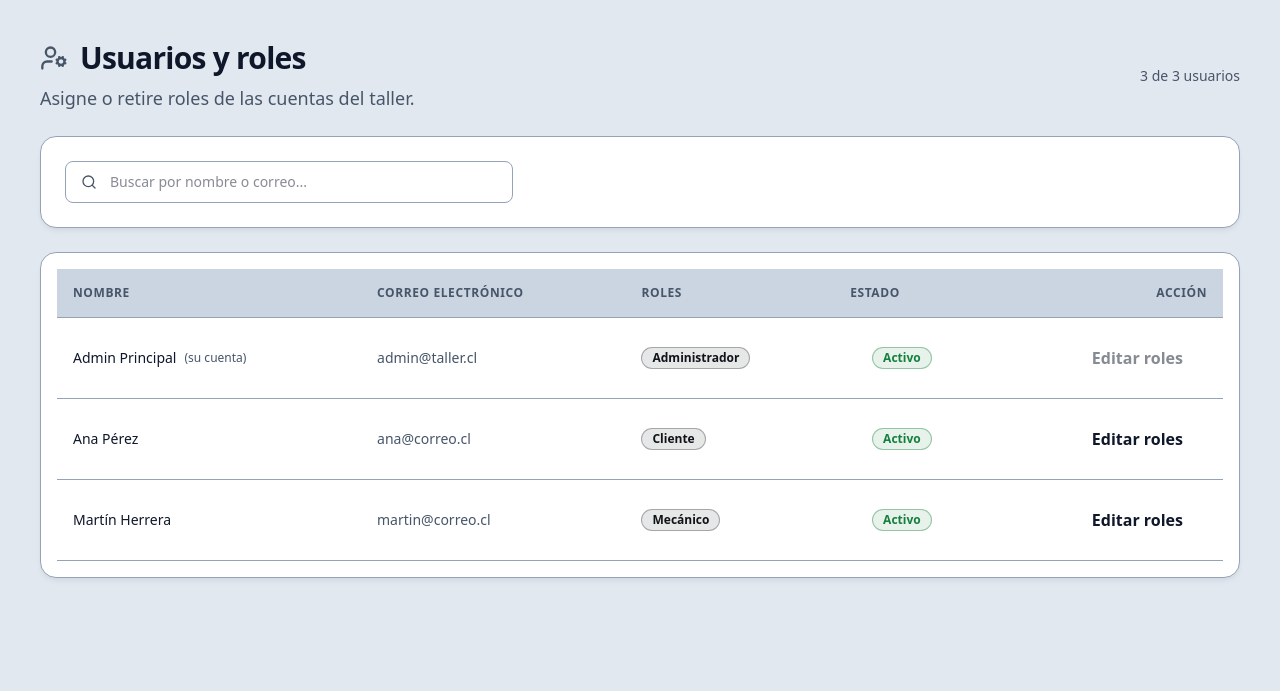
AdminUsersPage: gestión de roles de las cuentas › muestra el error del servidor y recarga el listado tras un fallo parcial
The image size is (1280, 691).
Check: the text "Ana Pérez" is shown, box x1=73 y1=429 x2=138 y2=448
Click the button "Editar roles" in the row of "Ana Pérez" at (1137, 439), box x1=1068 y1=415 x2=1207 y2=463
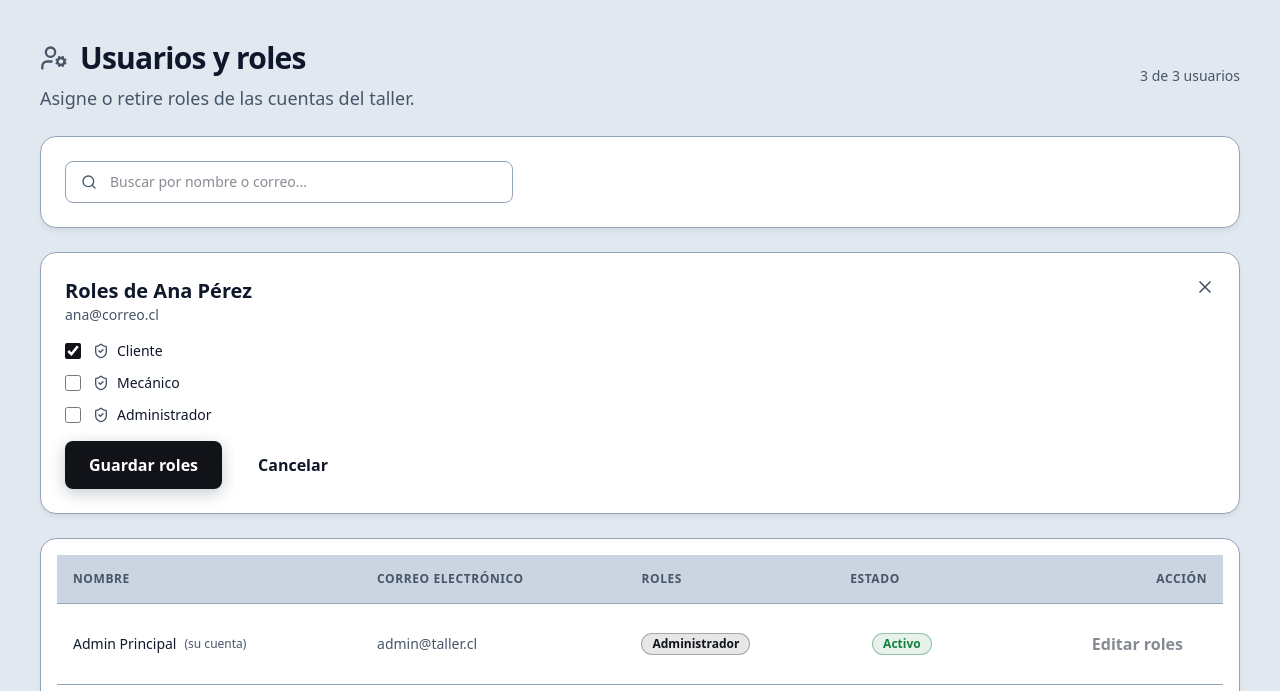
Click the checkbox labelled "Mecánico" at (73, 383), box x1=65 y1=375 x2=81 y2=391
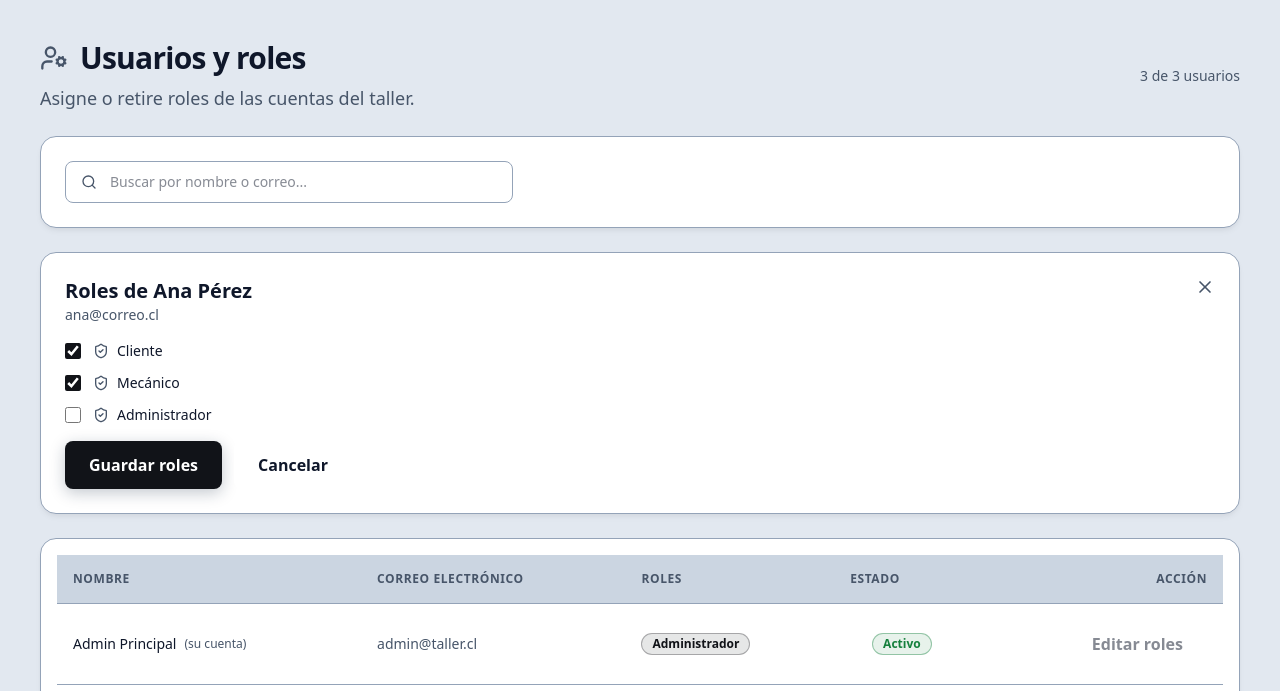
Click the button "Guardar roles" at (144, 465), box x1=65 y1=441 x2=222 y2=489
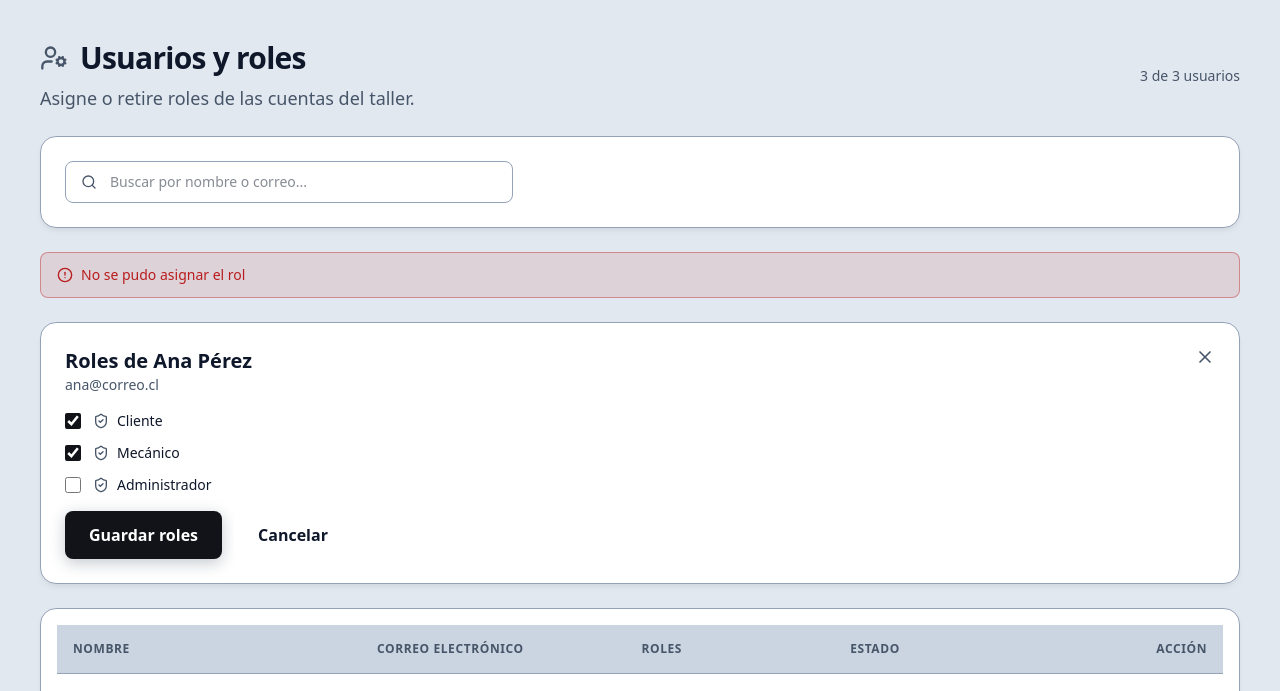
Check: the text "No se pudo asignar el rol" is shown, box x1=81 y1=265 x2=245 y2=285
